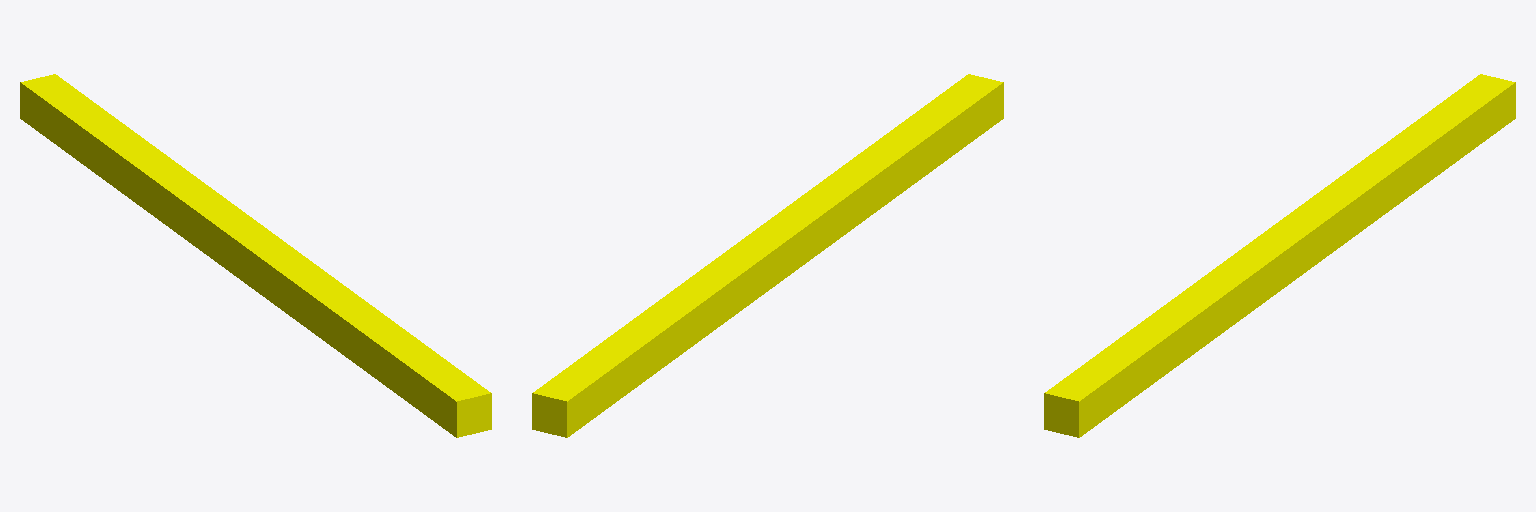
The robot description file, URDF, robot "sliding_rail_model":
<?xml version="1.0"?>
<robot name="sliding_rail_model" xmlns:xi="http://www.w3.org/2001/XInclude">

  <material name="Yellow">
    <color rgba="1 1 0.0 1"/>
  </material>

  <link name="sliding_rail_component">
    <visual>
      <origin rpy="0 0 0" xyz="0 0 0"/>
      <geometry>
        <box size="0.06 1.3 0.06"/>
      </geometry>
       <material name="Yellow"/>
    </visual>
    <collision>
      <origin rpy="0 0 0" xyz="0 0 0"/>
      <geometry>
        <box size="0.06 1.3 0.06"/>
      </geometry>
      <material name="Yellow"/>
    </collision>
  </link>
</robot>

--- Render facts (derived) ---
Views: 3 orthographic renders of the robot side by side, from view 1: azimuth 30°, elevation 25°; view 2: azimuth 150°, elevation 25°; view 3: azimuth 330°, elevation 25°.
Model sliding_rail_model with 1 links and 0 joints (none), rooted at sliding_rail_component, posed all joints at 0.
Links seen in each view (by area): view 1: sliding_rail_component; view 2: sliding_rail_component; view 3: sliding_rail_component.
Link boxes in pixels (x1,y1,x2,y2): sliding_rail_component: (20, 74, 491, 437); sliding_rail_component: (532, 74, 1003, 437); sliding_rail_component: (1044, 74, 1515, 437).
Bounding box of the posed robot: 0.06 × 1.3 × 0.06 m (x, y, z).
Geometry: primitives only (box / cylinder / sphere), no mesh files.